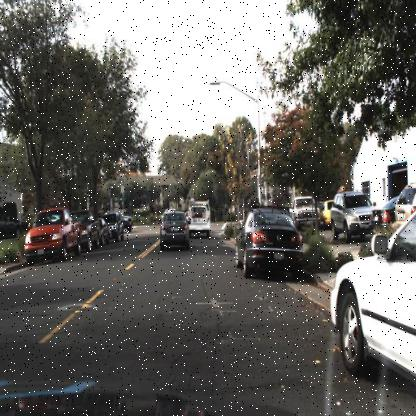car: (329, 207, 415, 399), (233, 201, 304, 278), (235, 208, 305, 276), (22, 203, 81, 263), (328, 184, 376, 244), (158, 208, 192, 252), (75, 202, 103, 253), (185, 194, 212, 242), (290, 193, 320, 231), (74, 208, 100, 251), (101, 206, 124, 246), (121, 209, 138, 238)
truck: (186, 202, 210, 238)
